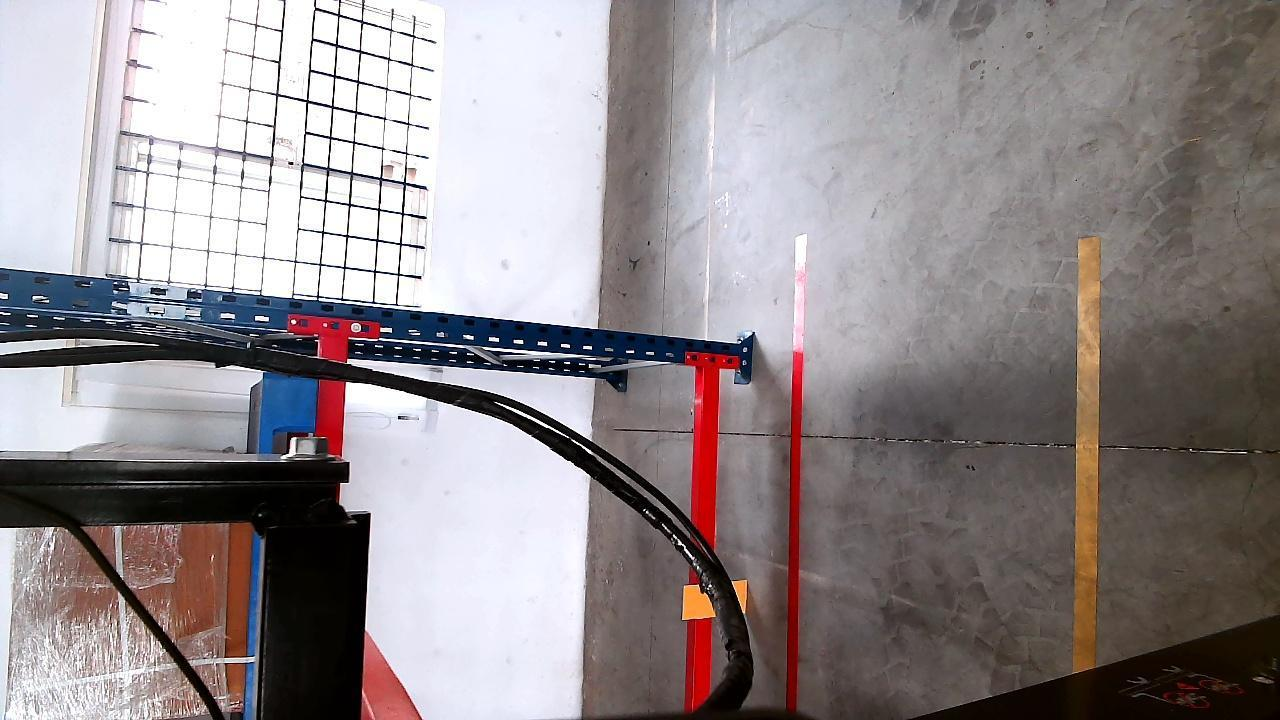h_rack: (690, 352, 720, 720)
red_line: (784, 273, 807, 718)
yellow_line: (1073, 227, 1103, 681)
